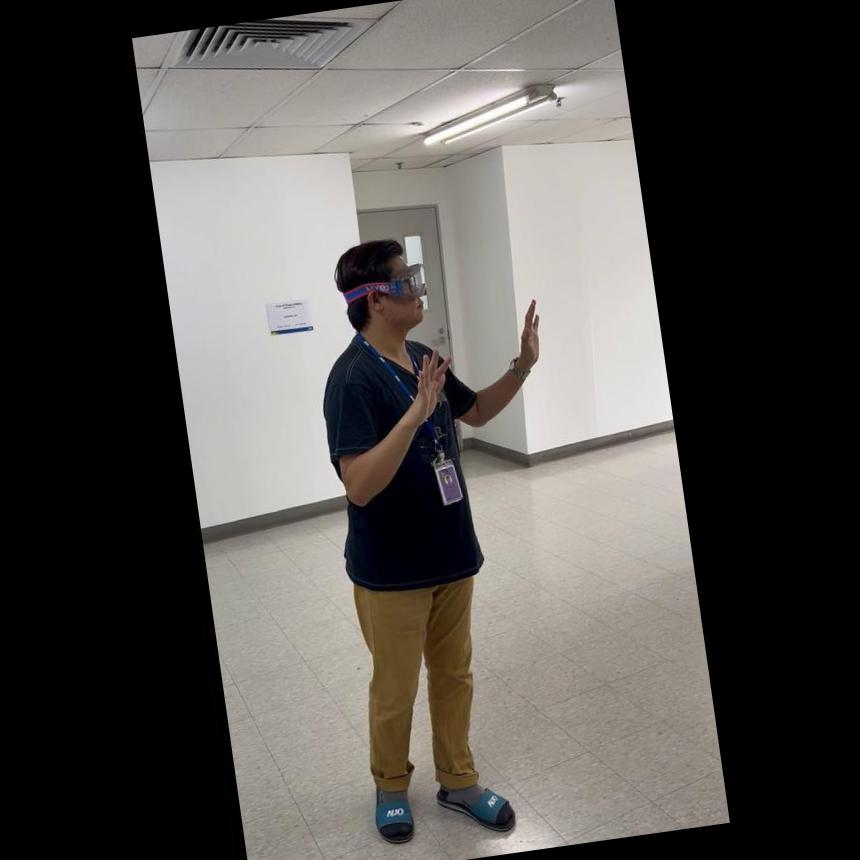No-gloves: (397, 338, 458, 414), (502, 290, 547, 375)
